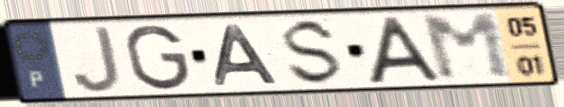A: (364, 14, 446, 86), (212, 22, 283, 88)
G: (122, 23, 194, 93)
J: (70, 23, 125, 95)
M: (417, 10, 518, 84)
S: (281, 16, 347, 88)
